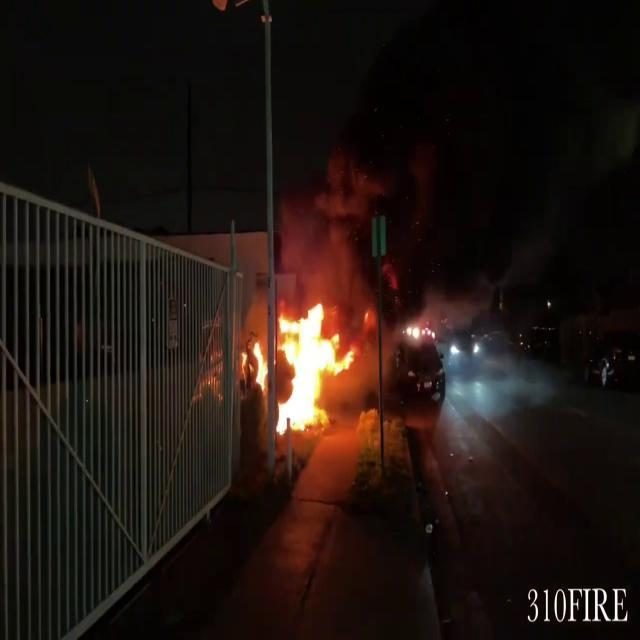Fire: (274, 296, 354, 436), (248, 337, 272, 398)
Smoke: (274, 138, 386, 290)
